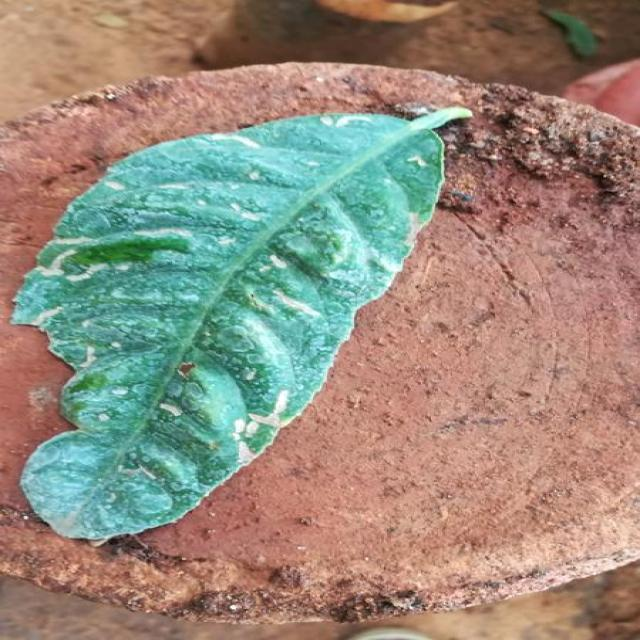badipala: (13, 108, 469, 538)
defectedbadipala: (13, 135, 320, 326)
